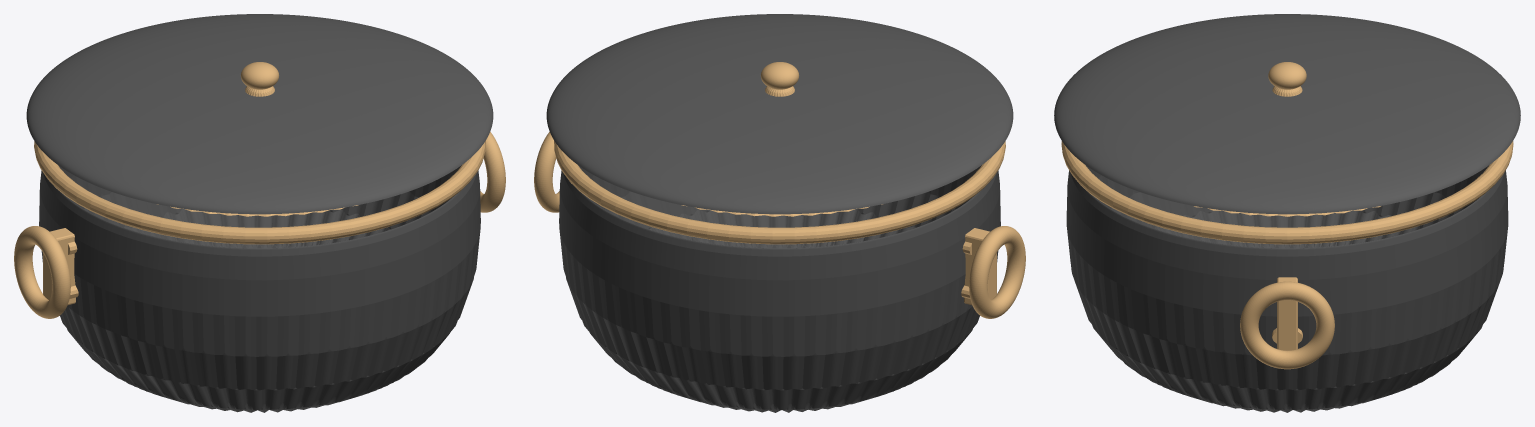
The picture shows the model from 3 angles, left to right: view 1: azimuth 30°, elevation 25°; view 2: azimuth 150°, elevation 25°; view 3: azimuth 270°, elevation 25°; orthographic projection.
Parts seen in each view (by area): view 1: Pot_Lid, Pot_Body, Pot_Rim, Pot_Handle_2, Pot_Handle_1, Pot_Handle_Connector_2, Lid_Knob_Top; view 2: Pot_Lid, Pot_Body, Pot_Rim, Pot_Handle_2, Pot_Handle_1, Pot_Handle_Connector_2, Lid_Knob_Top; view 3: Pot_Lid, Pot_Body, Pot_Rim, Pot_Handle_1, Pot_Handle_Connector_1, Lid_Knob_Top.
Part boxes in pixels (x1,y1,x2,y2): Pot_Lid: (26,14,493,214); Pot_Body: (39,165,480,412); Pot_Rim: (34,140,485,244); Pot_Handle_2: (14,226,70,318); Pot_Handle_1: (480,132,505,212); Pot_Handle_Connector_2: (43,228,75,304); Lid_Knob_Top: (240,62,279,89); Pot_Lid: (546,14,1013,214); Pot_Body: (559,165,1000,412); Pot_Rim: (554,140,1005,244); Pot_Handle_2: (969,226,1025,318); Pot_Handle_1: (534,132,559,212); Pot_Handle_Connector_2: (964,228,996,304); Lid_Knob_Top: (760,62,799,89); Pot_Lid: (1054,14,1520,214); Pot_Body: (1066,165,1508,412); Pot_Rim: (1061,141,1513,244); Pot_Handle_1: (1240,281,1334,369); Pot_Handle_Connector_1: (1277,277,1297,350); Lid_Knob_Top: (1268,62,1306,89).
Size of the model in its own units: 0.7467 by 0.507 by 0.6689.
